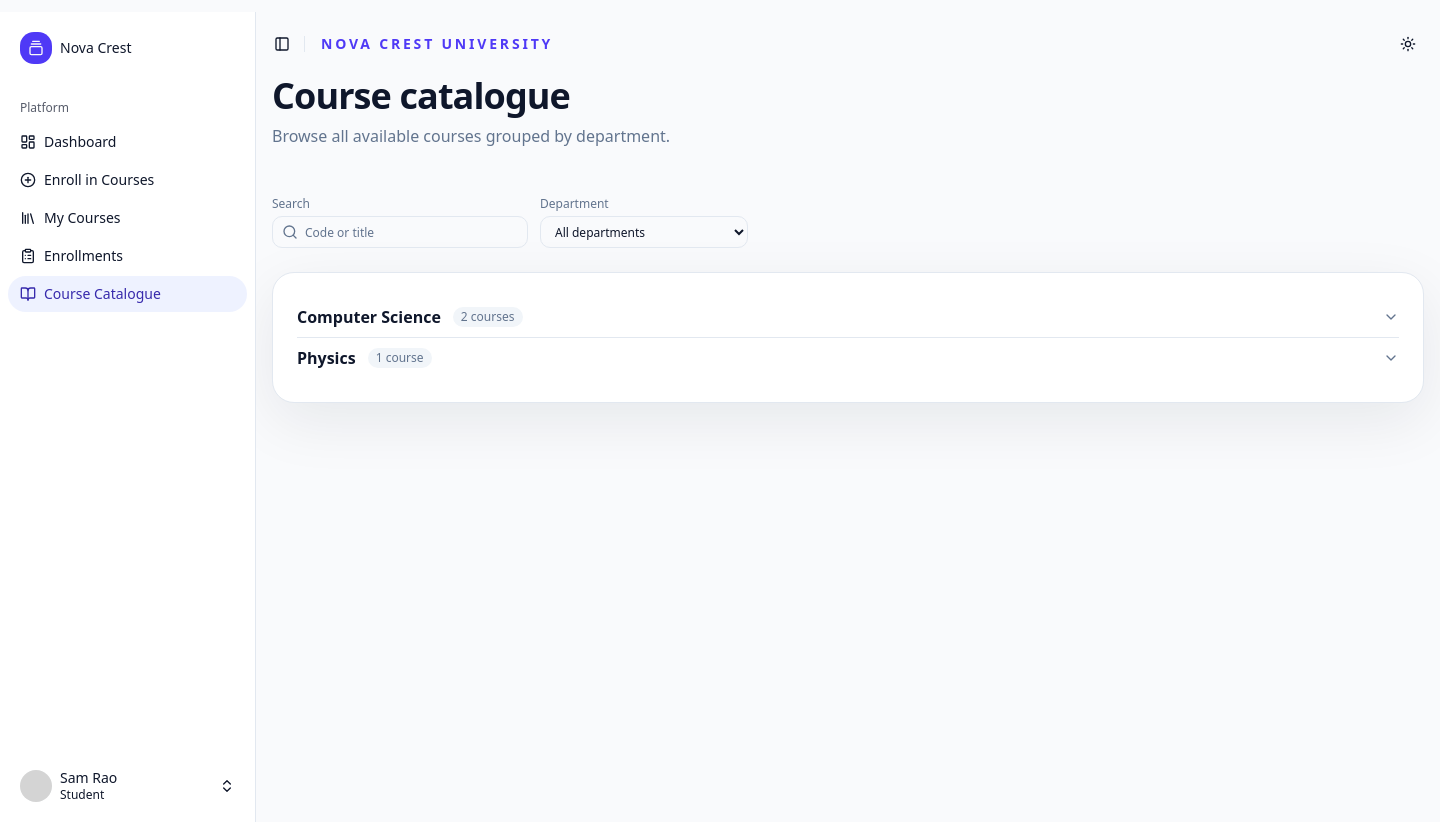
Test: CourseCatalogue › shows credits up front and the description on demand
Click the heading "Computer Science": (369, 317) [297, 305, 441, 329]
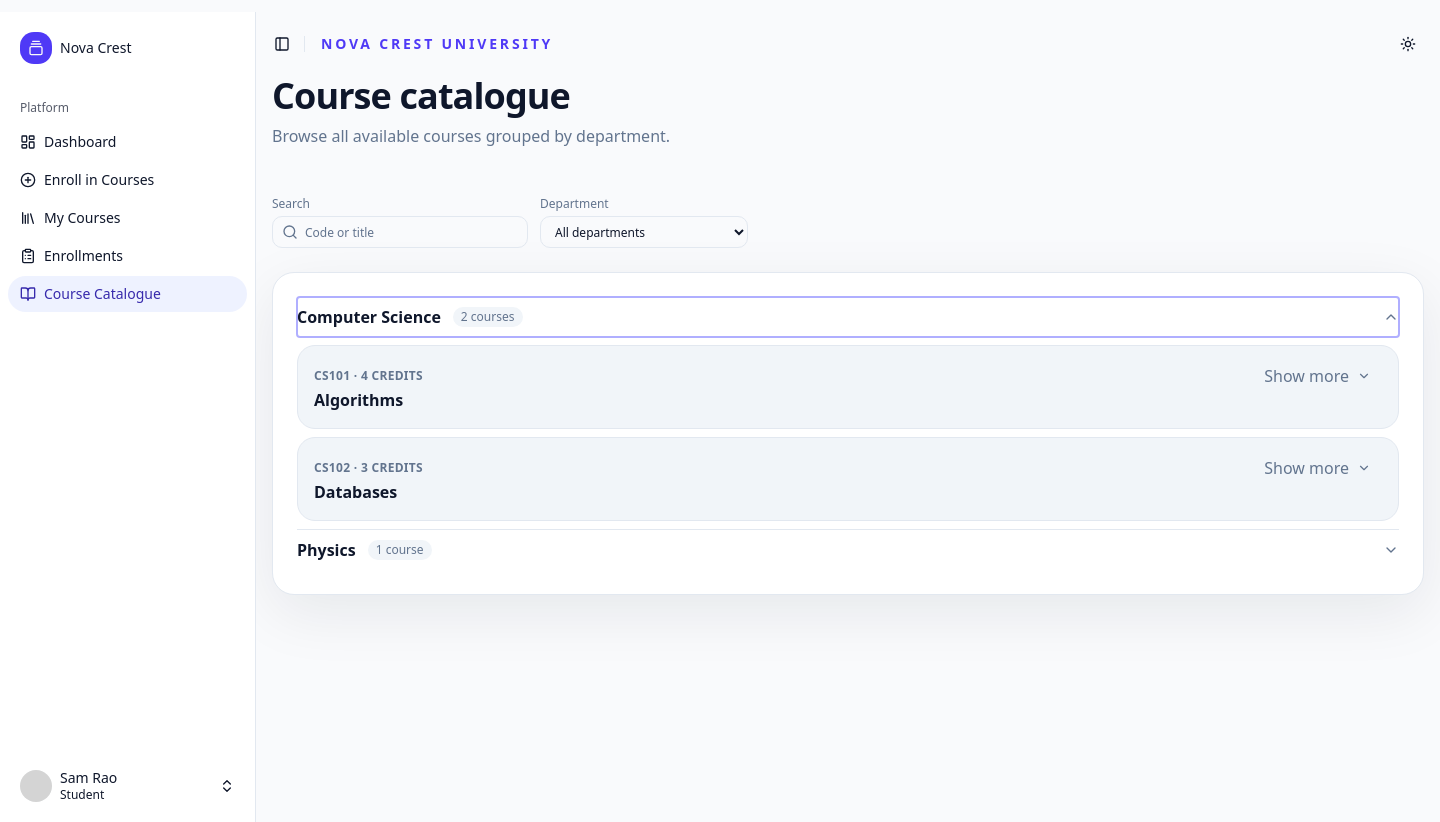
Check: the text "Sorting" is not shown
Check: the text "CS101 · 4 credits" is shown, box [314, 367, 423, 384]
Click the button "Show more" in the row of "CS101 · 4 credits": (1318, 376) [1253, 362, 1382, 390]
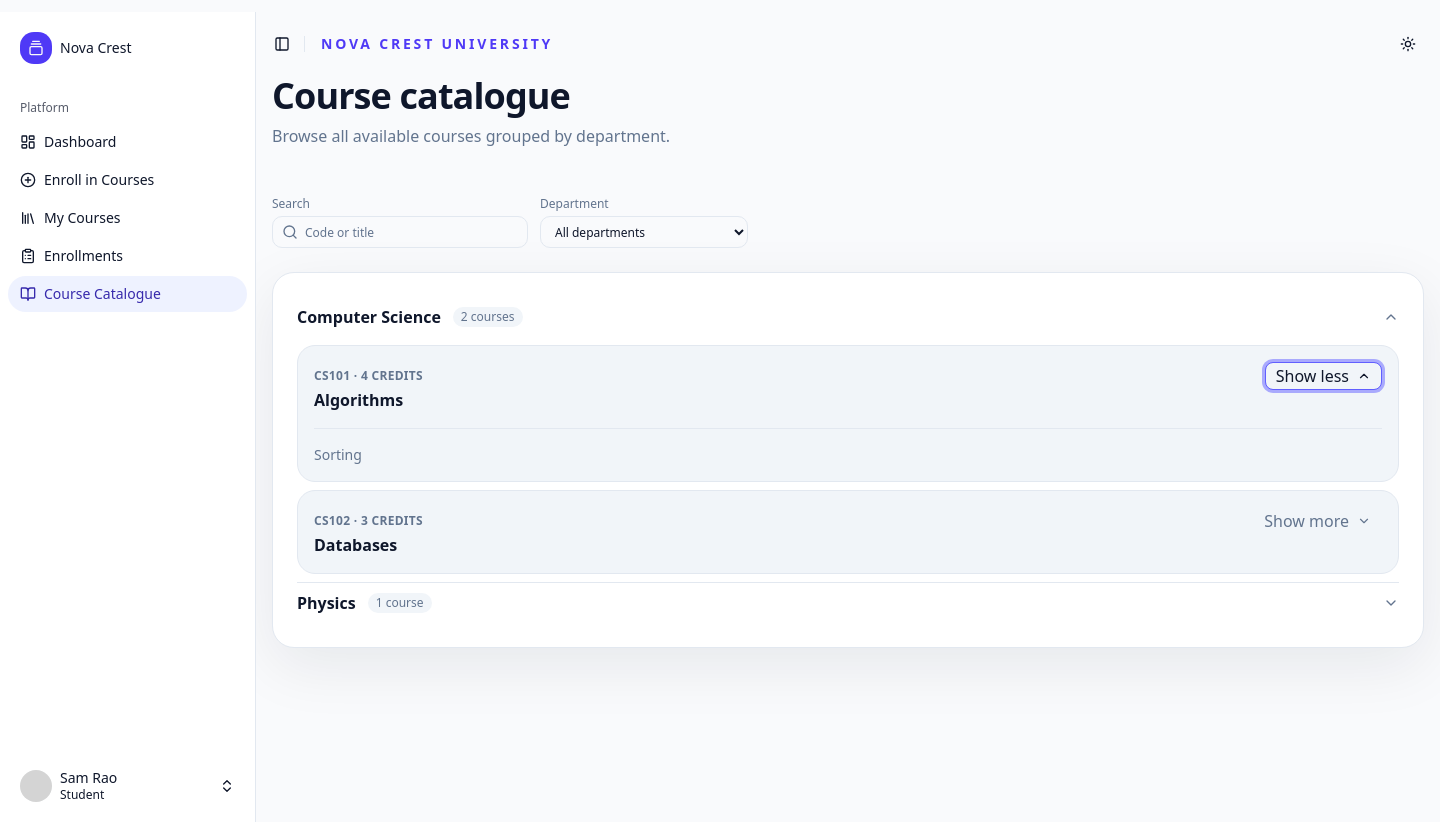
Check: the text "Sorting" is shown, box [314, 428, 1382, 465]
Check: the button "Show less" is expanded, box [1265, 362, 1382, 390]
